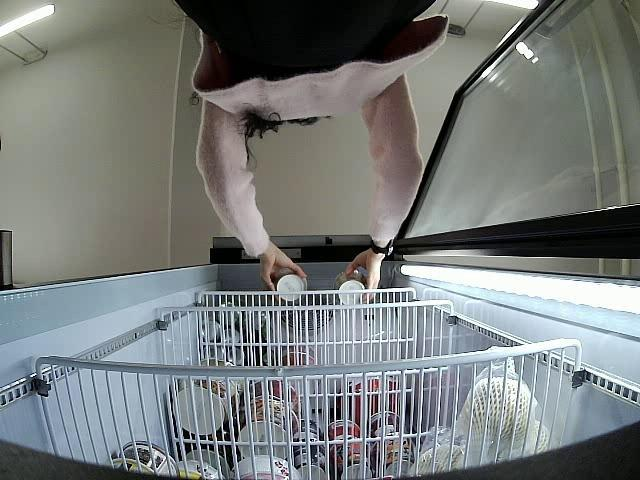04_chapagetti_S: (272, 262, 309, 300), (335, 267, 371, 304)
